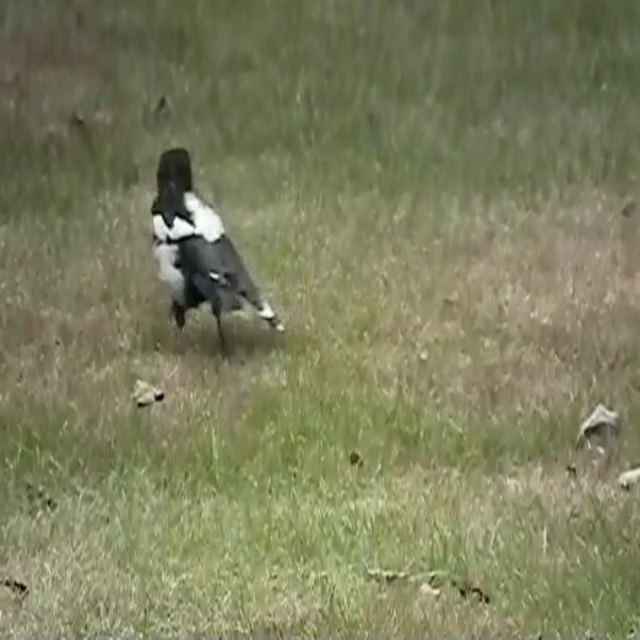Magpie: (151, 145, 284, 357)
